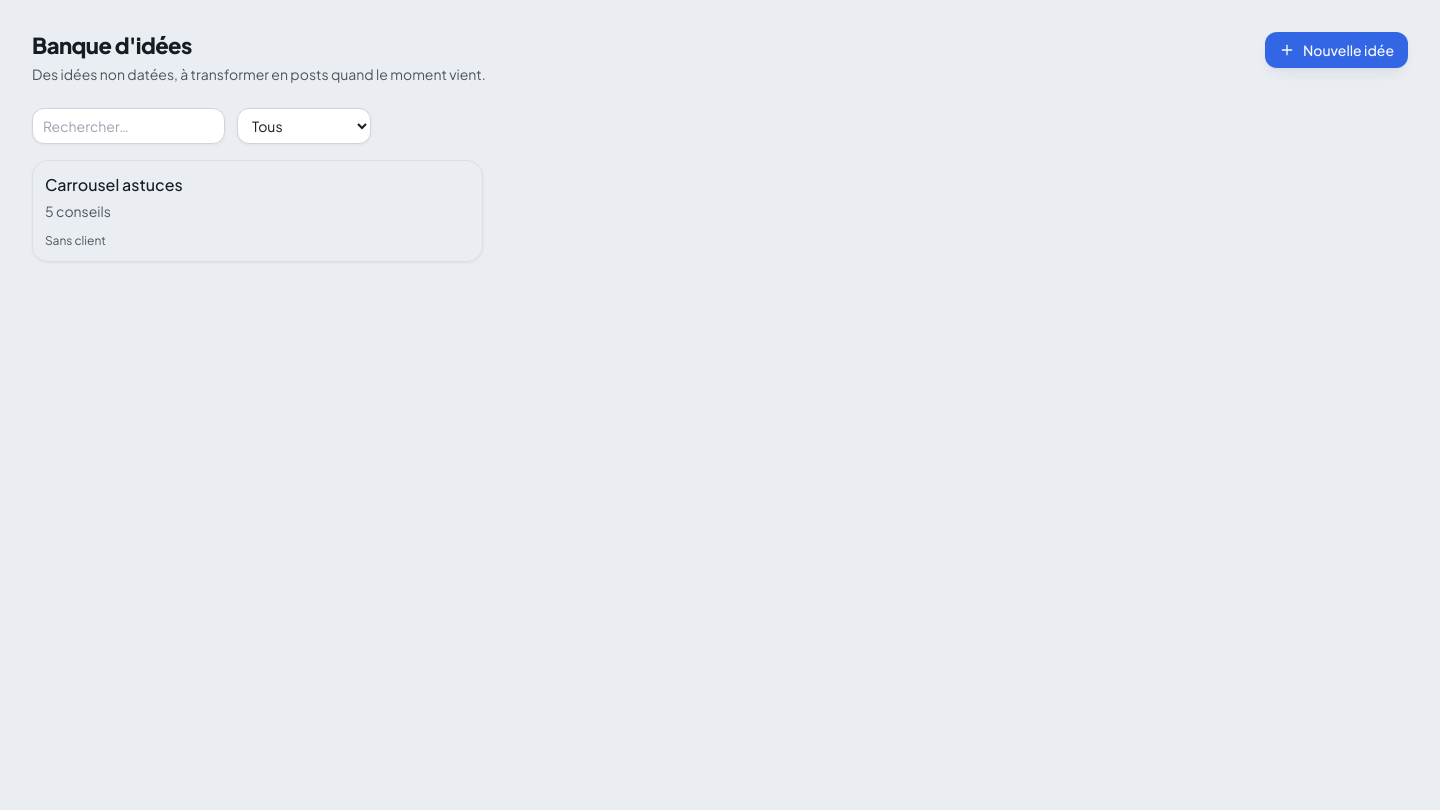
Test: IdeasPage › « Créer le brouillon » exige un client quand l’idée n’en a pas
Click the text "Carrousel astuces" at (114, 185), box [45,173,183,197]
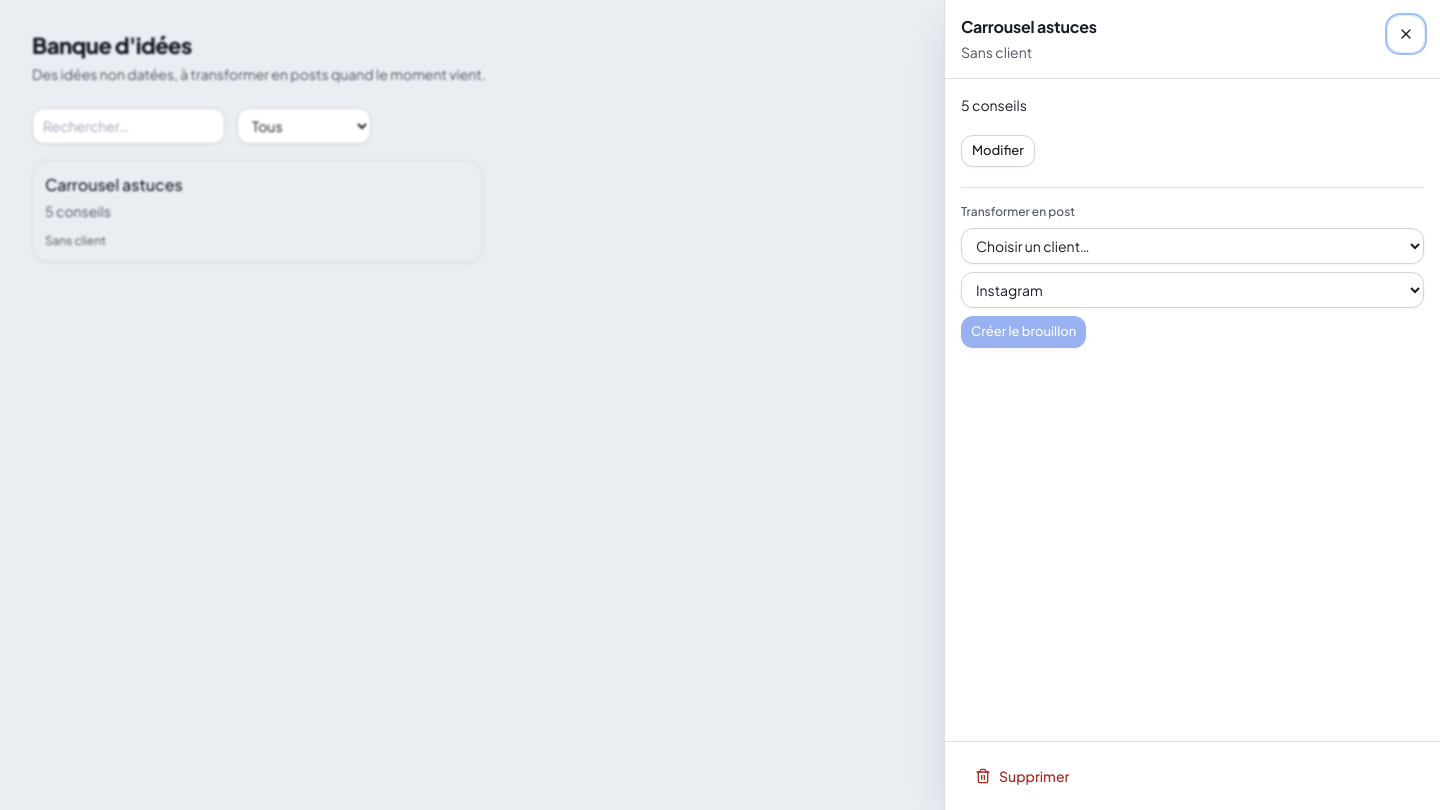
Expected: the dropdown named "Client du post" is shown, [961,228,1424,264]
Expected: the button "Créer le brouillon" is disabled, [961,316,1086,348]
